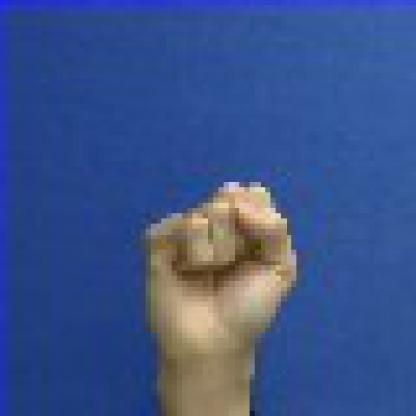zero: (119, 172, 318, 364)
